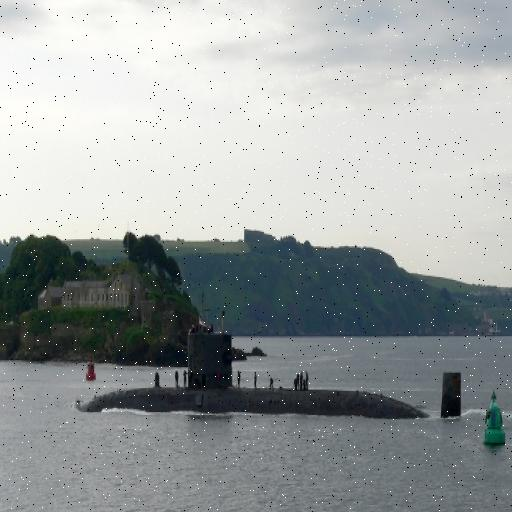submarine: (72, 327, 472, 413)
